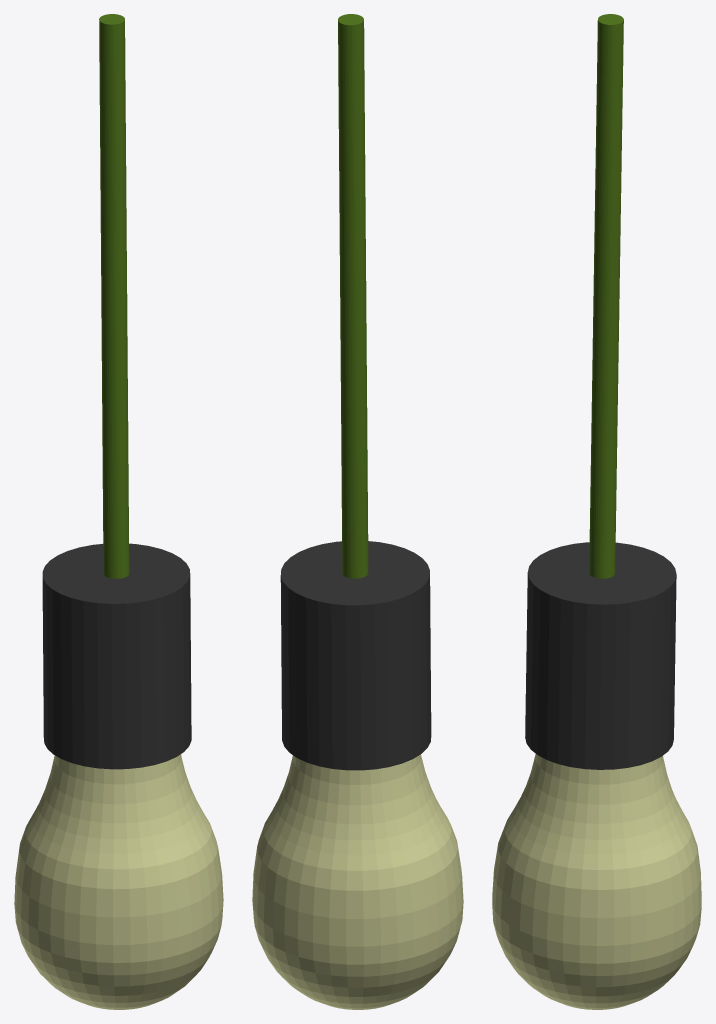
The model's file is Lampe.FBX.
3 views of the same model, side by side, from view 1: azimuth 30°, elevation 25°; view 2: azimuth 150°, elevation 25°; view 3: azimuth 270°, elevation 25° (orthographic).
Visible parts, largest first — view 1: Sphere, Cylinder_003, Cylinder_001; view 2: Sphere, Cylinder_003, Cylinder_001; view 3: Sphere, Cylinder_003, Cylinder_001.
Boxes of the visible parts, box(x1,y1,x2,y2) form: Sphere: box(14, 754, 223, 1009); Cylinder_003: box(42, 543, 191, 769); Cylinder_001: box(99, 14, 129, 578); Sphere: box(252, 754, 463, 1009); Cylinder_003: box(280, 541, 431, 770); Cylinder_001: box(338, 14, 368, 578); Sphere: box(492, 754, 701, 1009); Cylinder_003: box(525, 542, 676, 769); Cylinder_001: box(589, 14, 623, 578).
Size of the model in its own units: 1.13 by 5.82 by 1.13.
